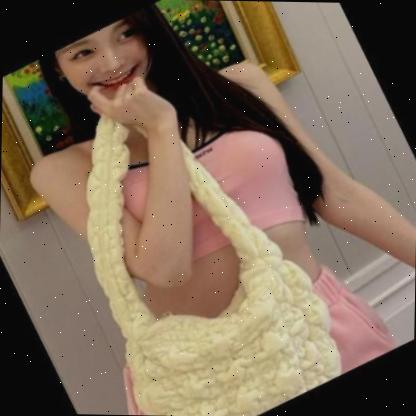bag: (81, 95, 327, 416)
